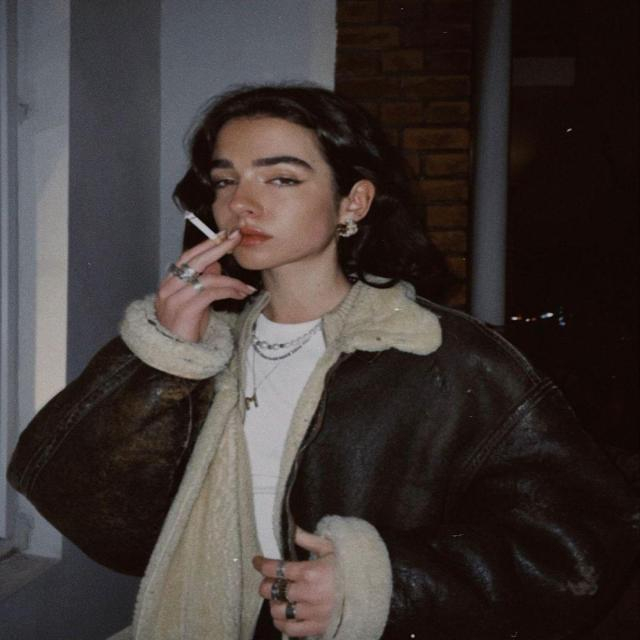cigarette: (162, 194, 236, 265)
